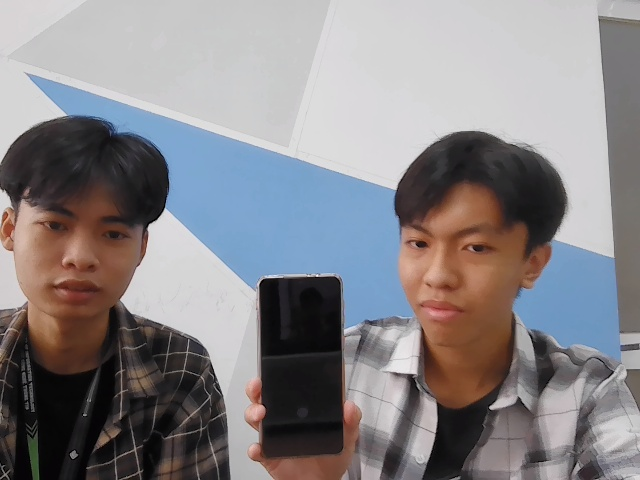human: (393, 132, 566, 340), (4, 113, 170, 322)
phone: (246, 269, 347, 460)
